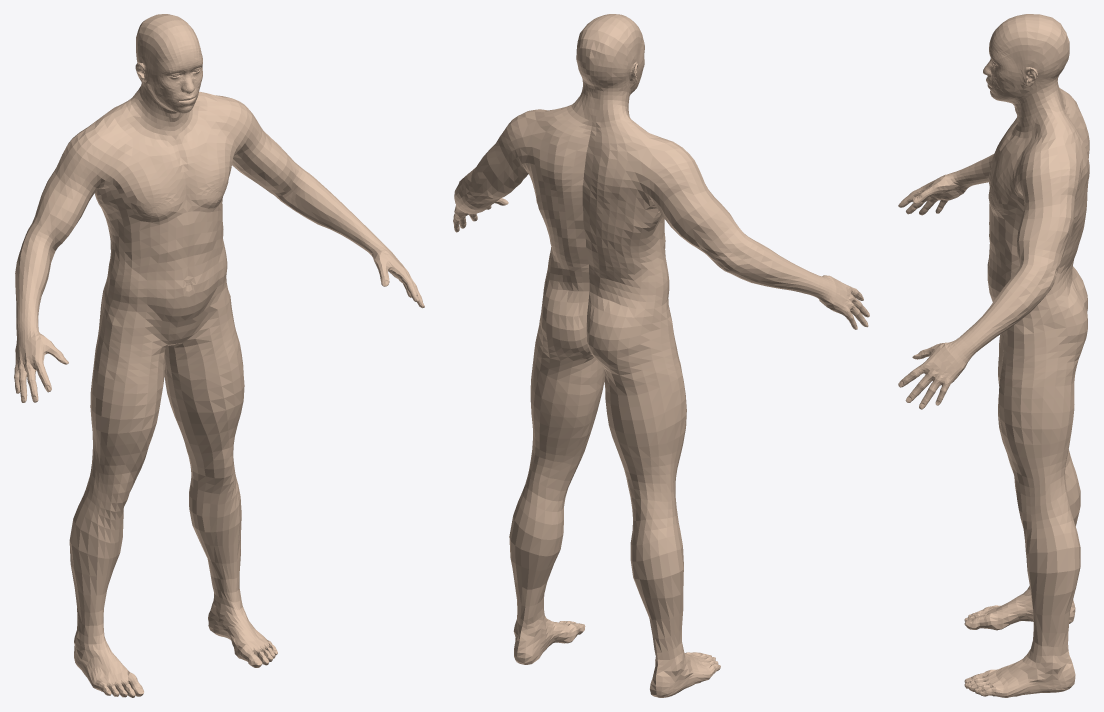
File: male-adult-heavy-high.glb
The picture shows the model from 3 angles, left to right: view 1: azimuth 30°, elevation 25°; view 2: azimuth 150°, elevation 25°; view 3: azimuth 270°, elevation 25°; orthographic projection.
Parts seen in each view (by area): view 1: world; view 2: world; view 3: world.
Boxes of the visible parts, x1,y1,x2,y2 form: world: [14, 14, 424, 697]; world: [453, 14, 869, 697]; world: [898, 14, 1089, 697].
Size of the model in its own units: 1.28 by 1.96 by 0.5302.
